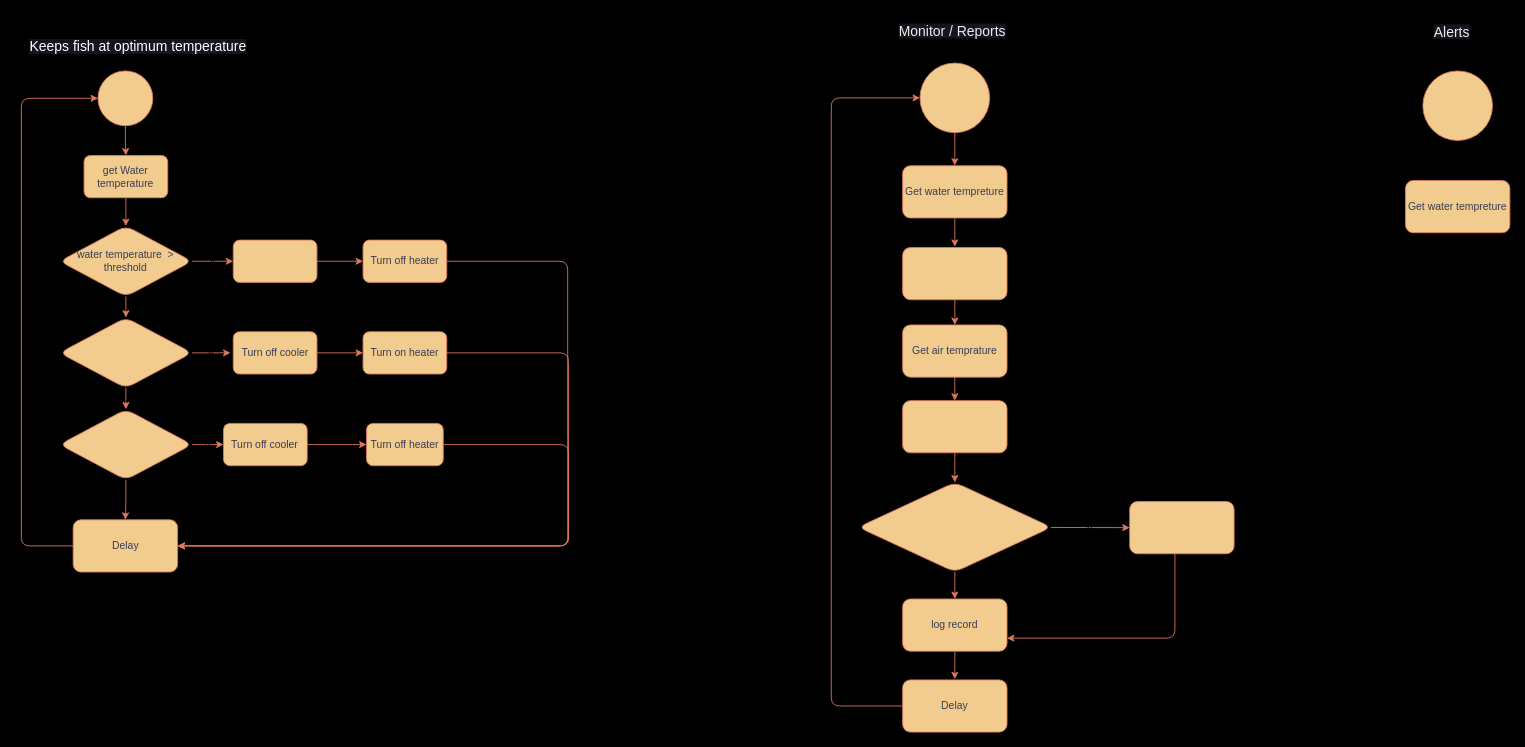
The diagram is 1525 pixels wide and 747 high, and some of its shapes have lost their labels. Here are the shapes that lost their labels. From the top down, the box of each, then its label:
(232, 239, 317, 282): Turn on cooler
(902, 247, 1007, 300): Get water level
(59, 317, 192, 388): water temperature < threshold
(59, 408, 192, 480): water temperature in range
(902, 400, 1007, 453): get light level
(857, 482, 1051, 572): Has Time
(1129, 501, 1234, 554): Grt NTP time
